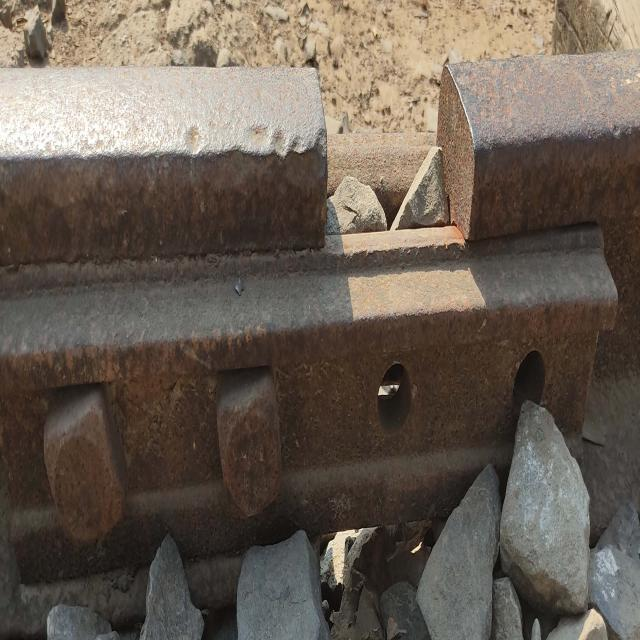railway_join_bar_defects_high: (310, 65, 480, 527)
